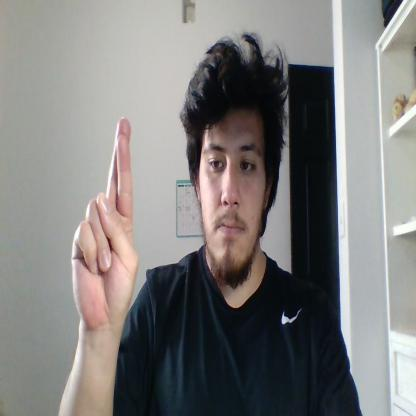R: (72, 116, 138, 328)
